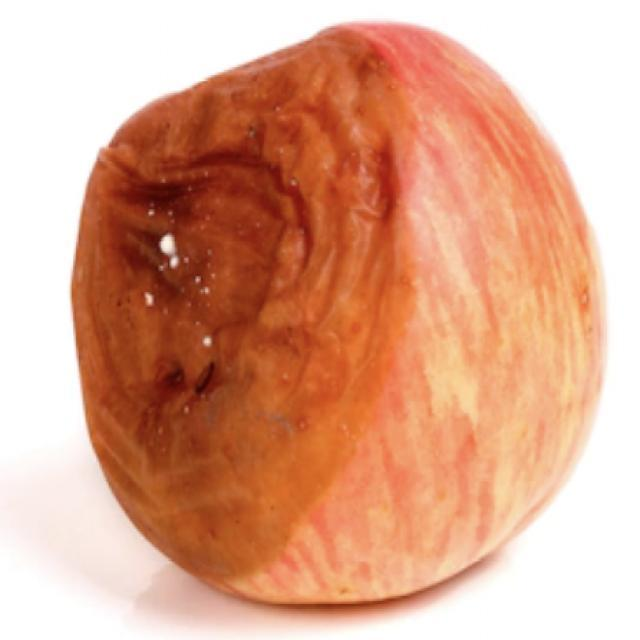Rotten: (68, 15, 607, 607)
